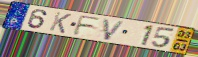1: (140, 24, 155, 47)
5: (150, 27, 177, 48)
6: (27, 9, 48, 30)
F: (71, 15, 102, 36)
K: (47, 11, 73, 35)
V: (102, 18, 127, 42)
